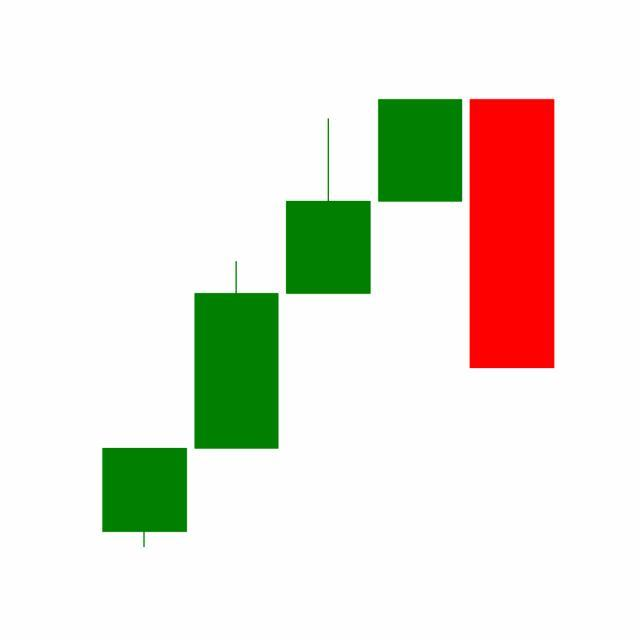Marubozu: (466, 97, 559, 372)
